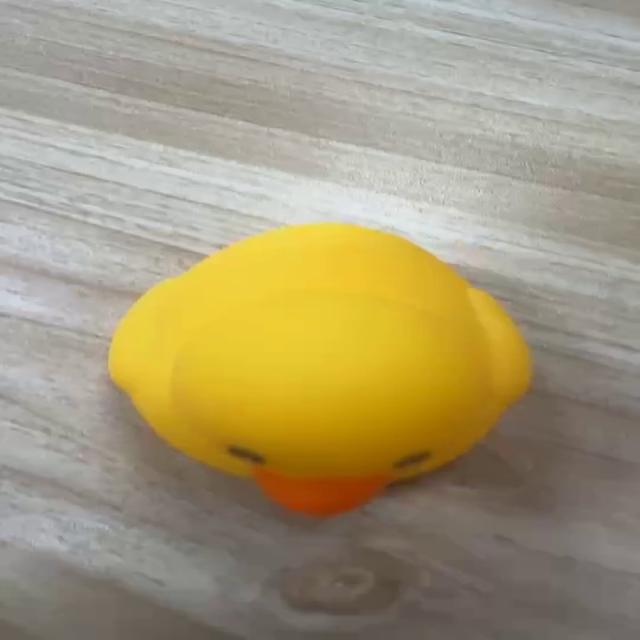yellow_duck: (104, 221, 534, 518)
